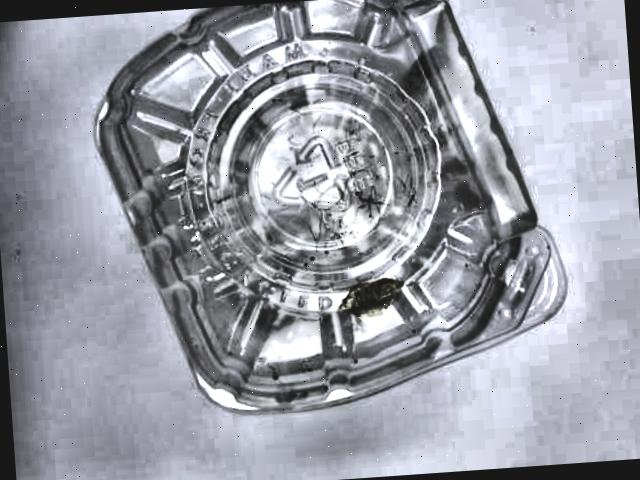Plastic: (84, 0, 577, 428)
